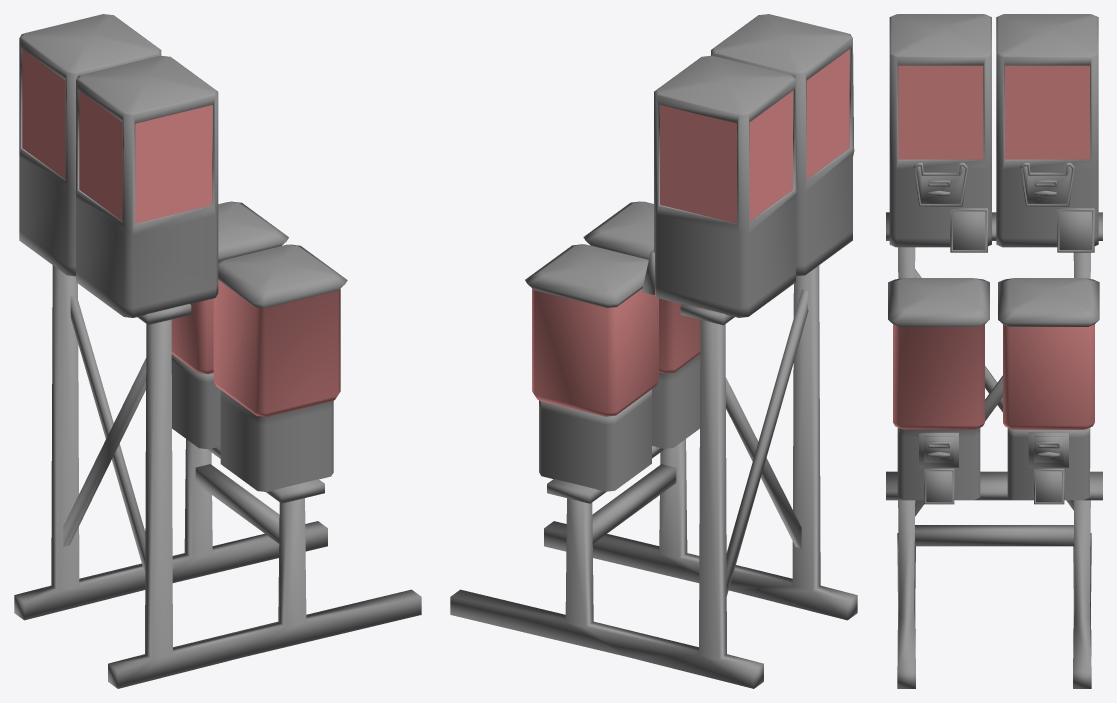
The model's file is SM_candy_machine_1.gltf.
3 renders of one model, left to right at view 1: azimuth 30°, elevation 25°; view 2: azimuth 150°, elevation 25°; view 3: azimuth 270°, elevation 25°, orthographic. The views are drawn at different scales.
Visible parts, largest first — view 1: SM_candy_machine_1; view 2: SM_candy_machine_1; view 3: SM_candy_machine_1.
Boxes of the visible parts, x1,y1,x2,y2 form: SM_candy_machine_1: [14, 14, 421, 688]; SM_candy_machine_1: [450, 14, 857, 688]; SM_candy_machine_1: [886, 14, 1102, 688].
Bounding box in the file's own units: 1.14 × 2.08 × 0.7486.
